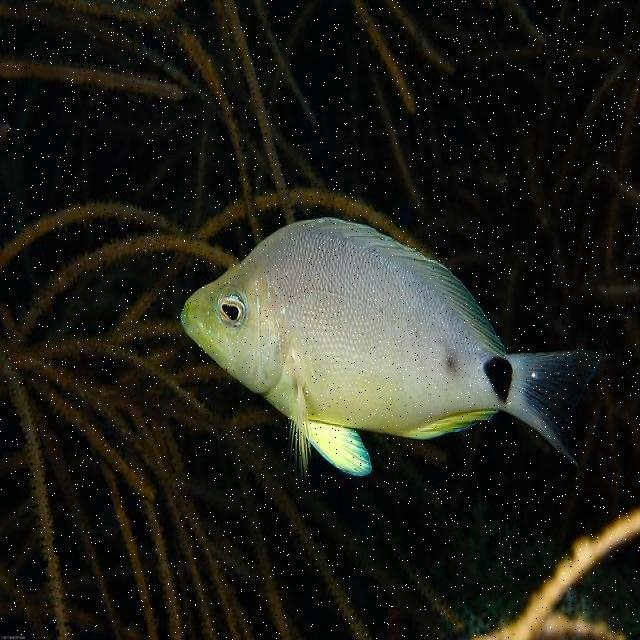aquatic plants: (0, 187, 429, 639), (0, 0, 326, 201), (465, 507, 639, 639)
fish: (181, 217, 602, 481)
